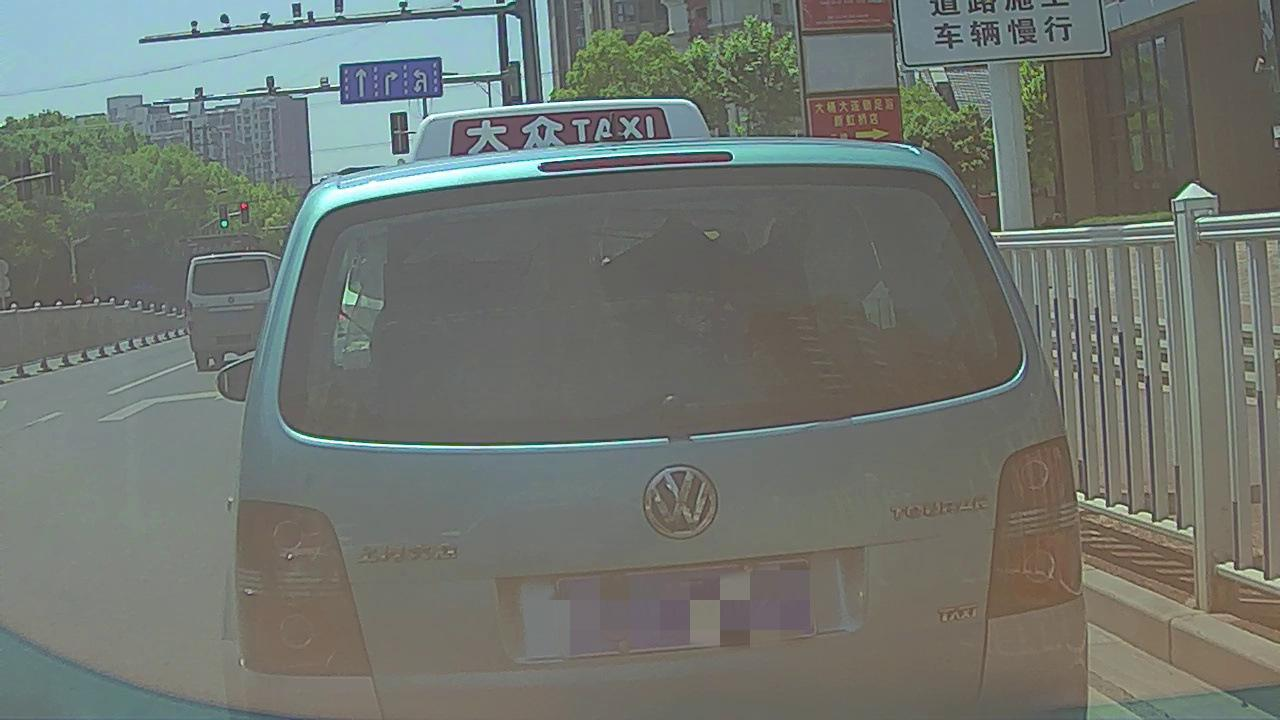traffic_light: (219, 204, 228, 228), (240, 203, 249, 224)
